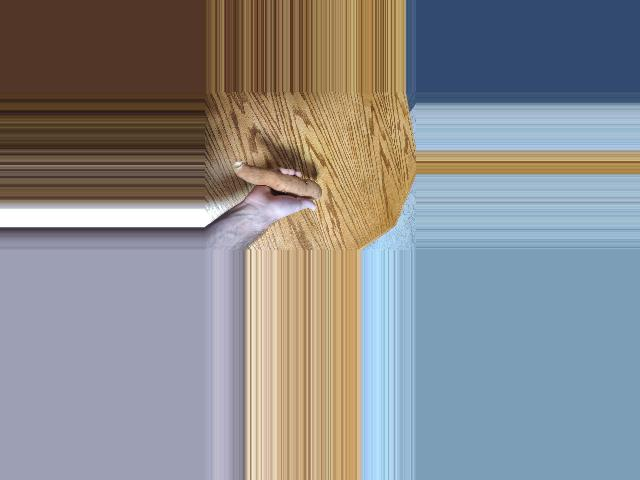sweet_potato: (233, 175, 323, 198)
